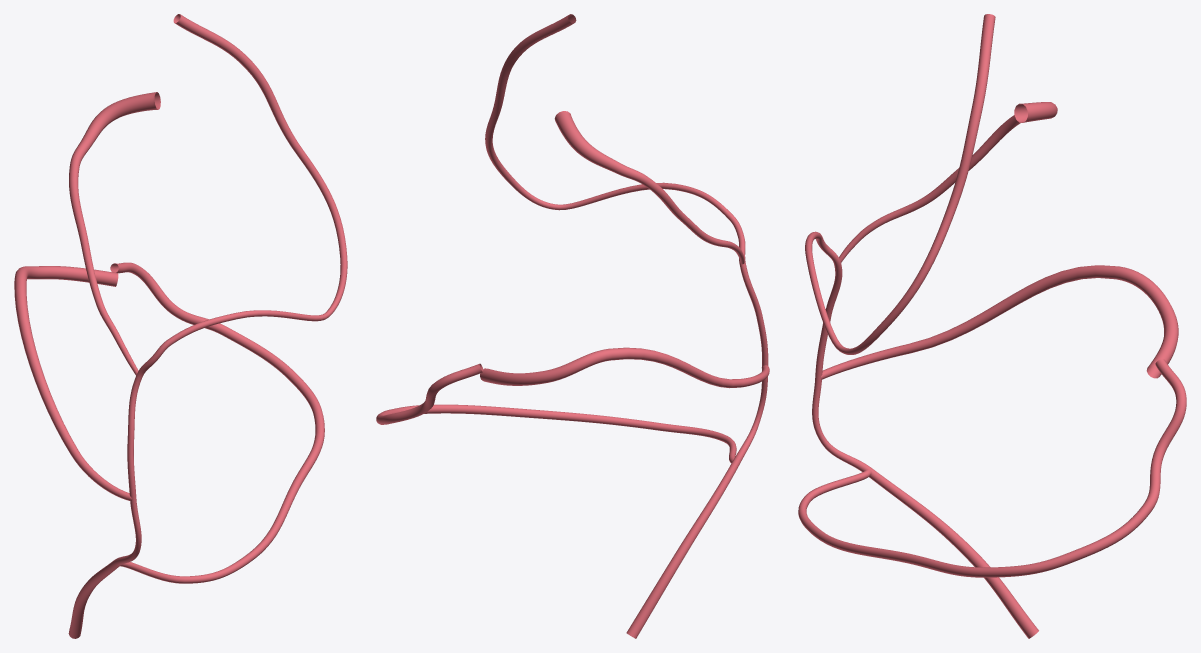
The picture shows the model from 3 angles, left to right: view 1: azimuth 30°, elevation 25°; view 2: azimuth 150°, elevation 25°; view 3: azimuth 270°, elevation 25°; orthographic projection. The views are drawn at different scales.
Parts seen in each view (by area): view 1: ZA_3defb1bdd52c9b02; view 2: ZA_3defb1bdd52c9b02; view 3: ZA_3defb1bdd52c9b02.
Part boxes in pixels (x1,y1,x2,y2): ZA_3defb1bdd52c9b02: (14,14,347,638); ZA_3defb1bdd52c9b02: (376,14,769,638); ZA_3defb1bdd52c9b02: (798,14,1186,638).
Size of the model in its own units: 0.0847 by 0.1647 by 0.0866.
